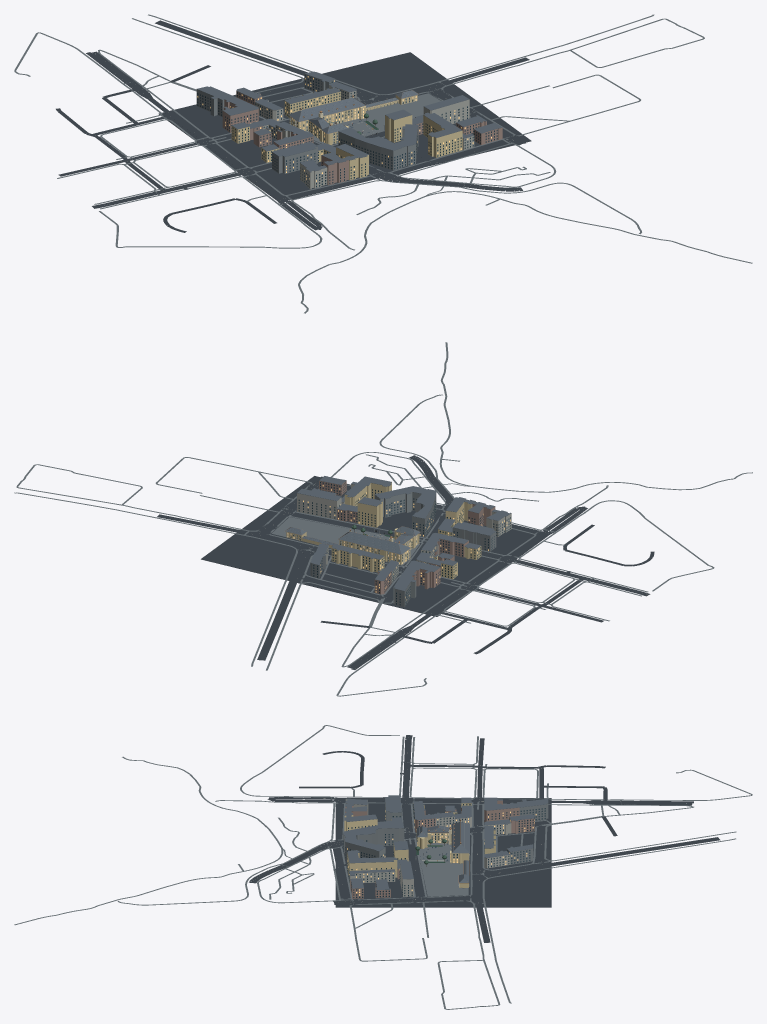
File: environment.glb
3 views of the same model, one above another, from view 1: azimuth 30°, elevation 25°; view 2: azimuth 150°, elevation 25°; view 3: azimuth 270°, elevation 25° (orthographic). The views are drawn at different scales.
Visible parts, largest first — view 1: environment; view 2: environment; view 3: environment.
Part boxes in pixels (x1,y1,x2,y2): environment: (14, 14, 752, 313); environment: (14, 342, 752, 696); environment: (14, 725, 752, 1009).
Size of the model in its own units: 781 by 26.12 by 856.
